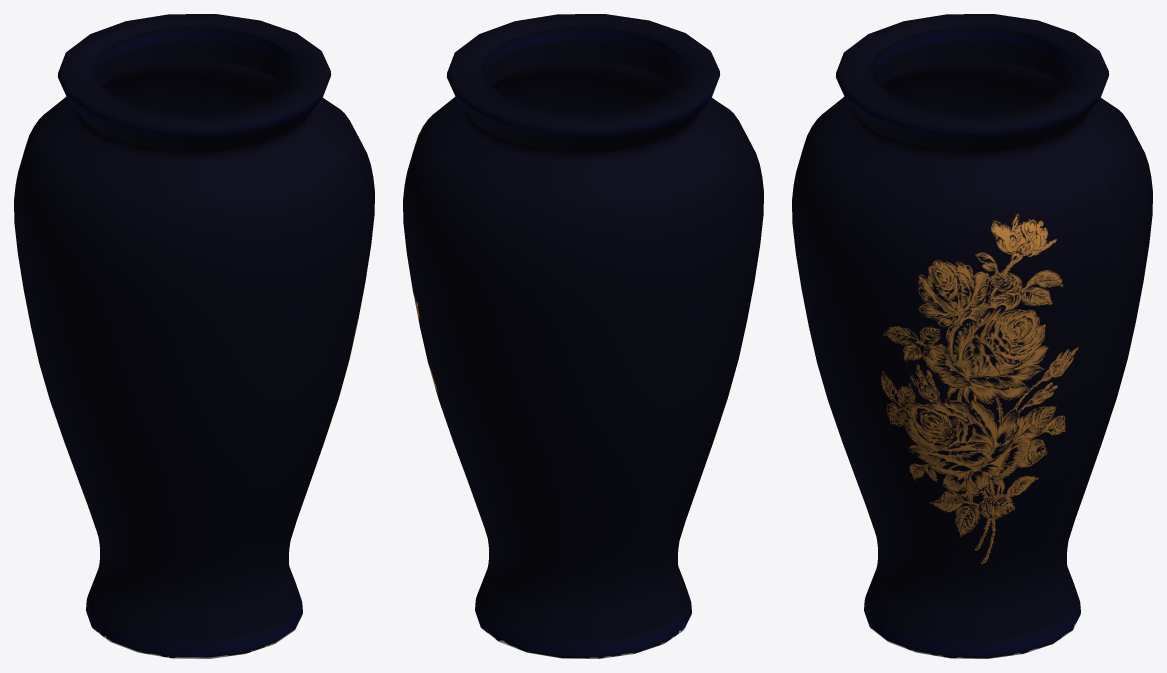
File: vaso.glb
3 views of the same model, side by side, from view 1: azimuth 30°, elevation 25°; view 2: azimuth 150°, elevation 25°; view 3: azimuth 270°, elevation 25° (orthographic).
Parts seen in each view (by area): view 1: Vase_4; view 2: Vase_4; view 3: Vase_4.
Part boxes in pixels (bbox=[...]): Vase_4: bbox=[14, 14, 374, 658]; Vase_4: bbox=[403, 14, 763, 658]; Vase_4: bbox=[792, 14, 1152, 658].
Size of the model in its own units: 0.1996 by 0.3349 by 0.2007.
1 material, 1 textured.
